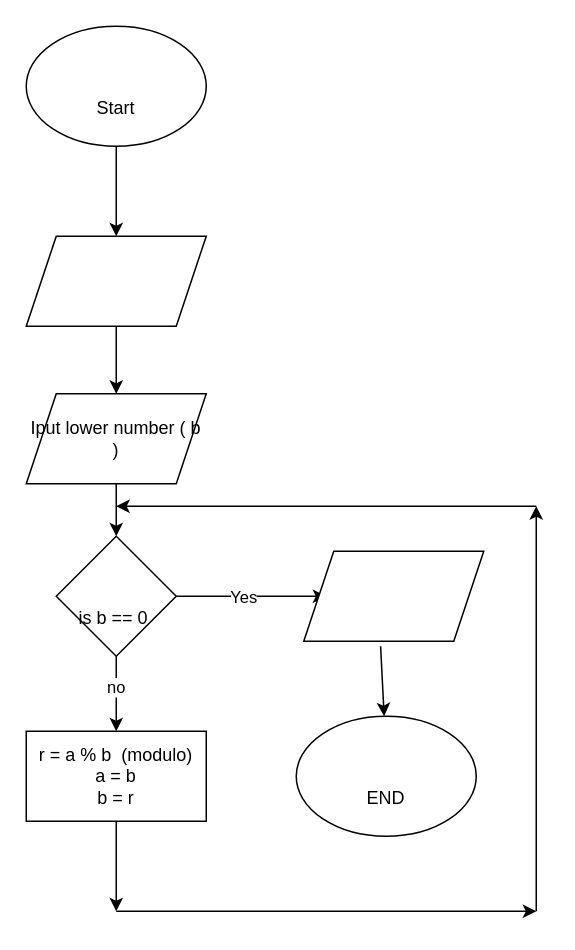
The diagram is 575 pixels wide and 950 high, and some of its shapes have lost their labels. Each missing label, with the box of its shape:
dislay: Biggest common factor = a: (302, 550, 484, 641)
Iput higher number ( a ): (25, 235, 206, 326)
